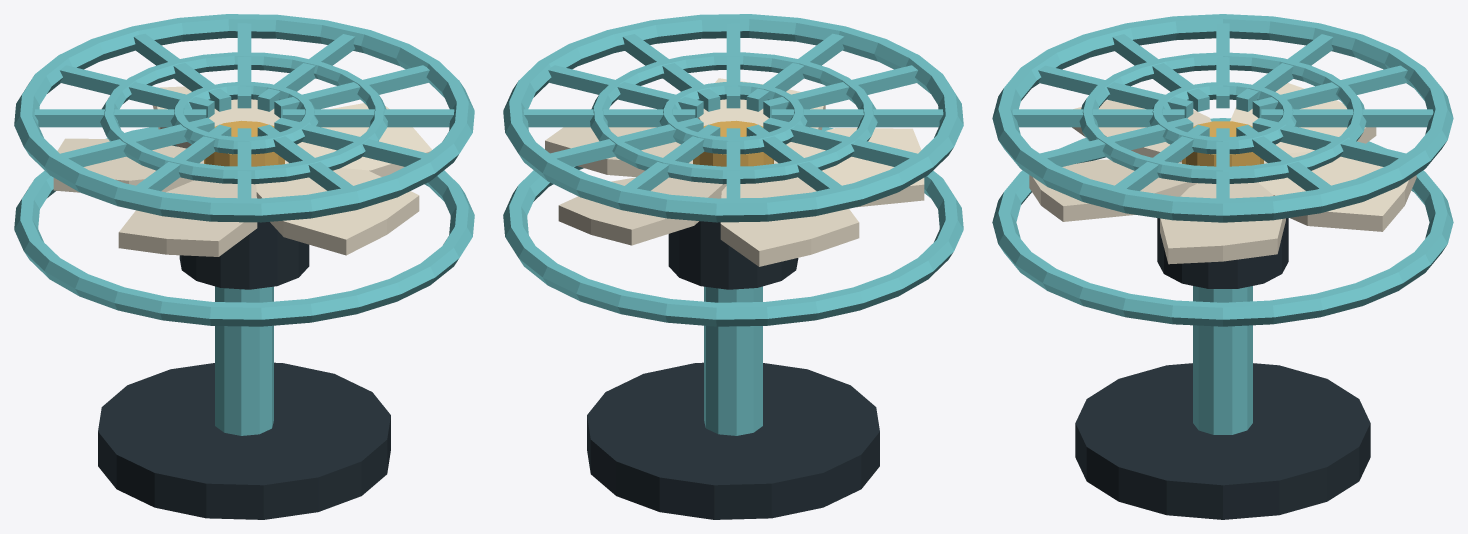
The model's file is propeller_v1.glb.
3 views of the same model, side by side, from view 1: azimuth 30°, elevation 25°; view 2: azimuth 150°, elevation 25°; view 3: azimuth 270°, elevation 25° (orthographic).
Visible parts, largest first — view 1: Propeller / dark foot, Propeller / cage front ring, Propeller / cage wires, Propeller / paper blades, Propeller / cage back ring, Propeller / cage hoop outer, Propeller / teal neck, Propeller / dark motor, Propeller / cage hoop inner, Propeller / brass hub; view 2: Propeller / dark foot, Propeller / cage front ring, Propeller / cage wires, Propeller / paper blades, Propeller / cage back ring, Propeller / cage hoop outer, Propeller / teal neck, Propeller / dark motor, Propeller / cage hoop inner, Propeller / brass hub; view 3: Propeller / dark foot, Propeller / cage front ring, Propeller / cage wires, Propeller / paper blades, Propeller / cage back ring, Propeller / cage hoop outer, Propeller / teal neck, Propeller / dark motor, Propeller / cage hoop inner, Propeller / brass hub.
Boxes of the visible parts, bbox=[...] form: Propeller / dark foot: bbox=[98, 362, 390, 519]; Propeller / cage front ring: bbox=[14, 14, 474, 222]; Propeller / cage wires: bbox=[34, 23, 454, 198]; Propeller / paper blades: bbox=[53, 86, 431, 256]; Propeller / cage back ring: bbox=[14, 127, 474, 326]; Propeller / cage hoop outer: bbox=[100, 52, 387, 184]; Propeller / teal neck: bbox=[215, 286, 273, 435]; Propeller / dark motor: bbox=[179, 222, 309, 289]; Propeller / cage hoop inner: bbox=[170, 82, 318, 154]; Propeller / brass hub: bbox=[204, 120, 284, 166]; Propeller / dark foot: bbox=[587, 362, 879, 519]; Propeller / cage front ring: bbox=[503, 14, 963, 222]; Propeller / cage wires: bbox=[523, 23, 943, 198]; Propeller / paper blades: bbox=[545, 78, 924, 266]; Propeller / cage back ring: bbox=[503, 127, 963, 326]; Propeller / cage hoop outer: bbox=[590, 52, 877, 184]; Propeller / teal neck: bbox=[704, 286, 762, 435]; Propeller / dark motor: bbox=[668, 221, 798, 289]; Propeller / cage hoop inner: bbox=[659, 82, 807, 154]; Propeller / brass hub: bbox=[693, 120, 773, 166]; Propeller / dark foot: bbox=[1075, 363, 1370, 519]; Propeller / cage front ring: bbox=[992, 14, 1453, 222]; Propeller / cage wires: bbox=[1012, 23, 1433, 198]; Propeller / paper blades: bbox=[1029, 83, 1416, 264]; Propeller / cage back ring: bbox=[992, 118, 1453, 326]; Propeller / cage hoop outer: bbox=[1079, 52, 1366, 183]; Propeller / teal neck: bbox=[1193, 286, 1252, 434]; Propeller / dark motor: bbox=[1157, 218, 1288, 288]; Propeller / cage hoop inner: bbox=[1149, 82, 1296, 154]; Propeller / brass hub: bbox=[1182, 121, 1263, 166].
Size of the model in its own units: 0.844 by 0.7041 by 0.844.
